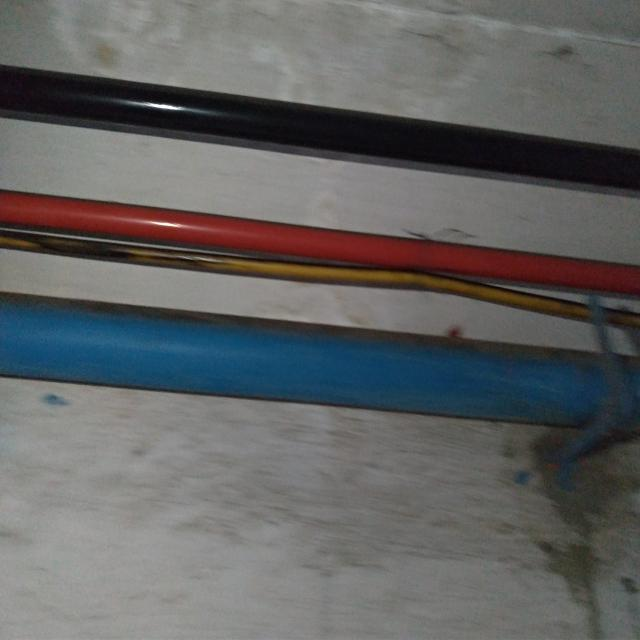gas: (1, 293, 635, 435), (2, 66, 633, 188), (3, 190, 637, 294)
